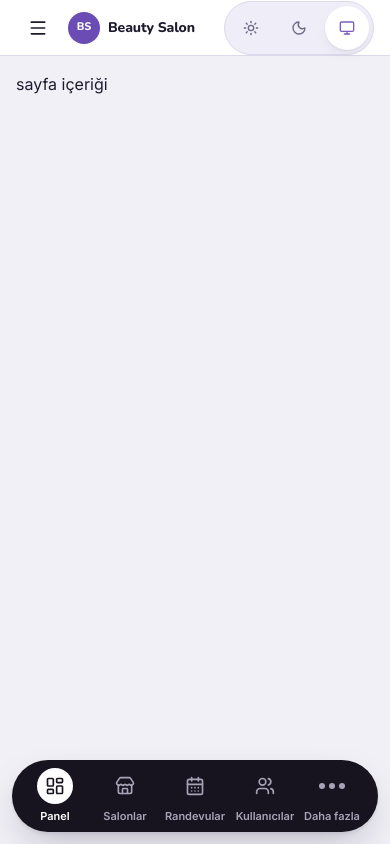
Test: AppShell — panel modu › çekmecedeki X düğmesi çekmeceyi kapatır (aria-expanded geri döner)
The width and height of the screenshot is (390, 844).
Click the button named "Menüyü aç".
click(38, 28)  # box top-left (16, 6), bottom-right (60, 50)
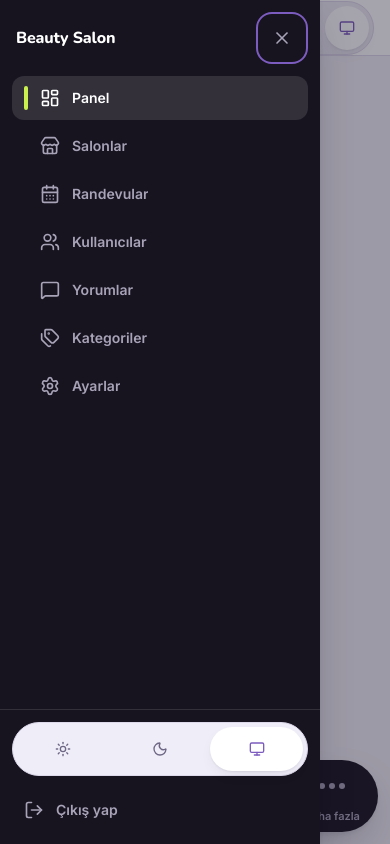
Click the button named "Kapat".
click(282, 38)  # box top-left (260, 16), bottom-right (304, 60)
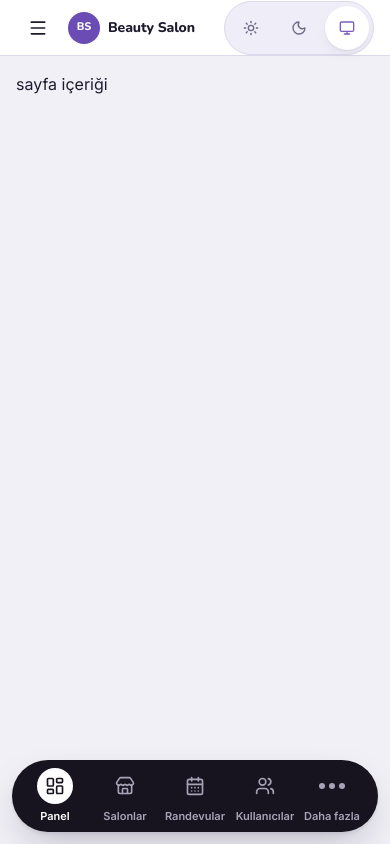
expect the button named "Menüyü aç" is collapsed: met, box top-left (16, 6), bottom-right (60, 50)
